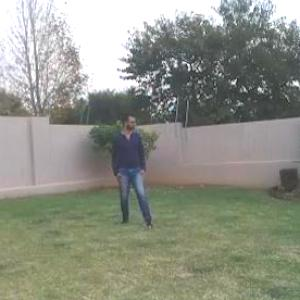follow: (113, 107, 149, 230)
